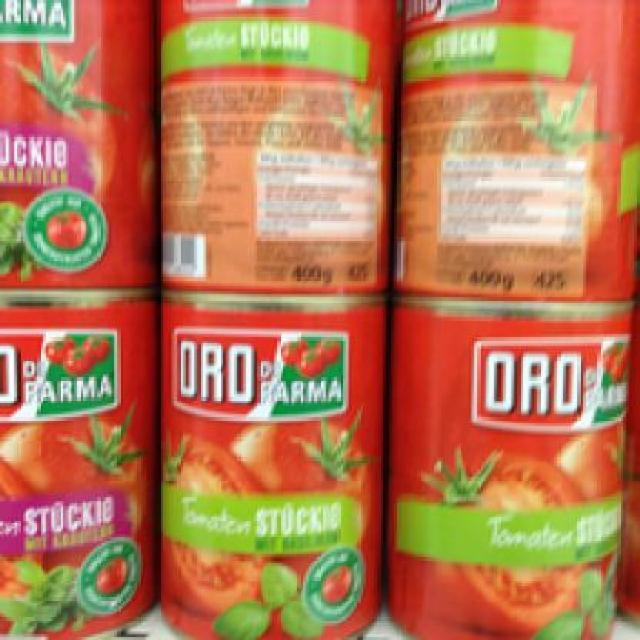Tomato Sauce: (388, 292, 638, 634), (153, 282, 390, 638), (392, 0, 638, 283), (150, 0, 387, 277), (0, 281, 155, 638), (0, 0, 155, 284)
